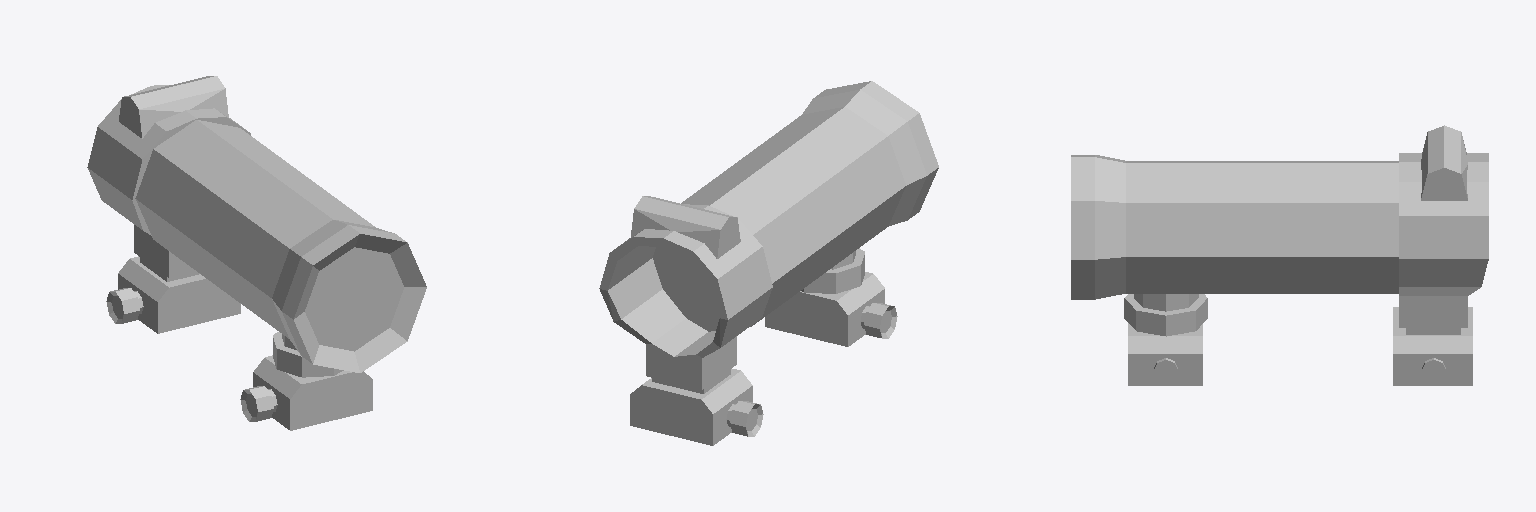
The model's file is Magnified_East.obj.
3 renders of one model, left to right at view 1: azimuth 30°, elevation 25°; view 2: azimuth 150°, elevation 25°; view 3: azimuth 270°, elevation 25°, orthographic.
Visible parts, largest first — view 1: Magnified_East; view 2: Magnified_East; view 3: Magnified_East.
Part boxes in pixels (bbox=[...]): Magnified_East: bbox=[87, 76, 426, 430]; Magnified_East: bbox=[599, 81, 938, 445]; Magnified_East: bbox=[1071, 125, 1488, 385].
Bounding box in the file's own units: 0.0451 × 0.0705 × 0.122.